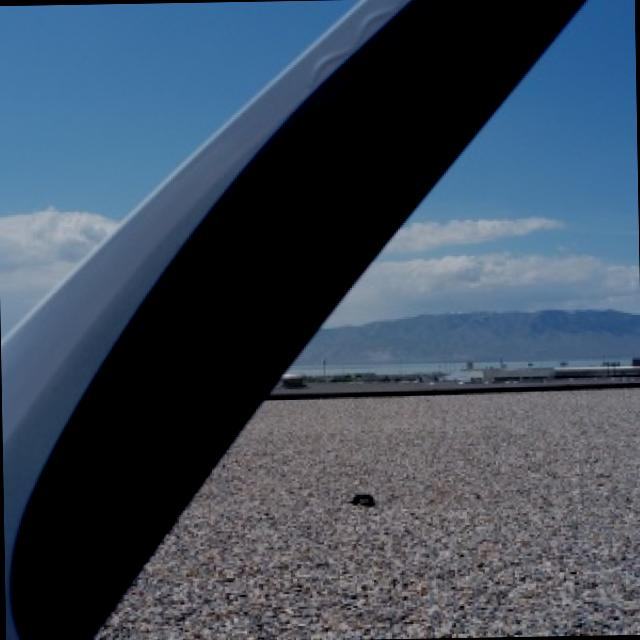healthy: (0, 0, 579, 640)
